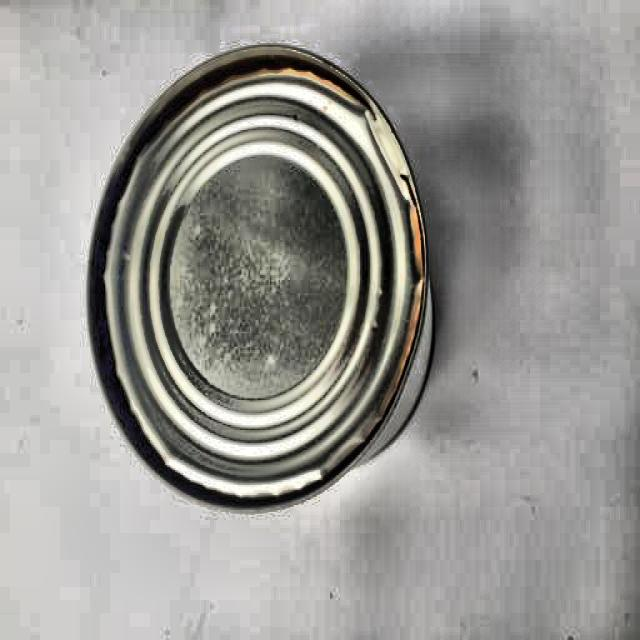metal: (81, 47, 432, 514)
